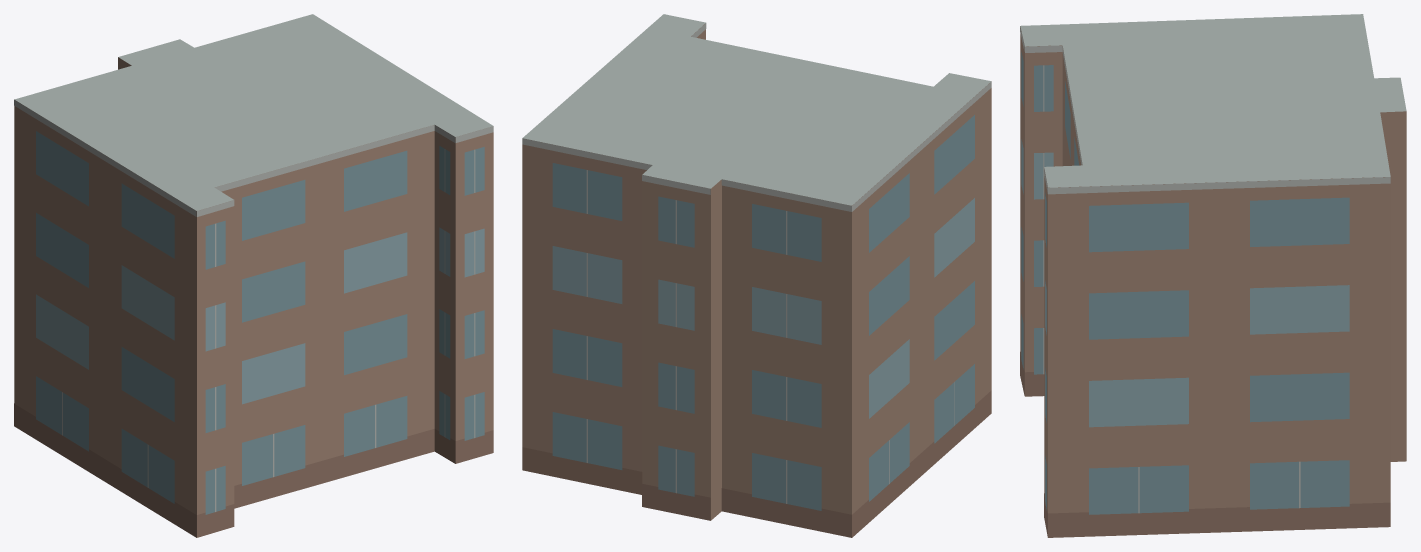
File: survey-upis-32998406.glb
3 renders of one model, left to right at view 1: azimuth 30°, elevation 25°; view 2: azimuth 150°, elevation 25°; view 3: azimuth 270°, elevation 25°, orthographic. The views are drawn at different scales.
Visible parts, largest first — view 1: survey-upis-32998406.tmp; view 2: survey-upis-32998406.tmp; view 3: survey-upis-32998406.tmp.
Part boxes in pixels (x1,y1,x2,y2): survey-upis-32998406.tmp: (14,14,493,537); survey-upis-32998406.tmp: (522,14,991,537); survey-upis-32998406.tmp: (1020,14,1406,537).
Bounding box in the file's own units: 13.74 × 12.9 × 12.91.
